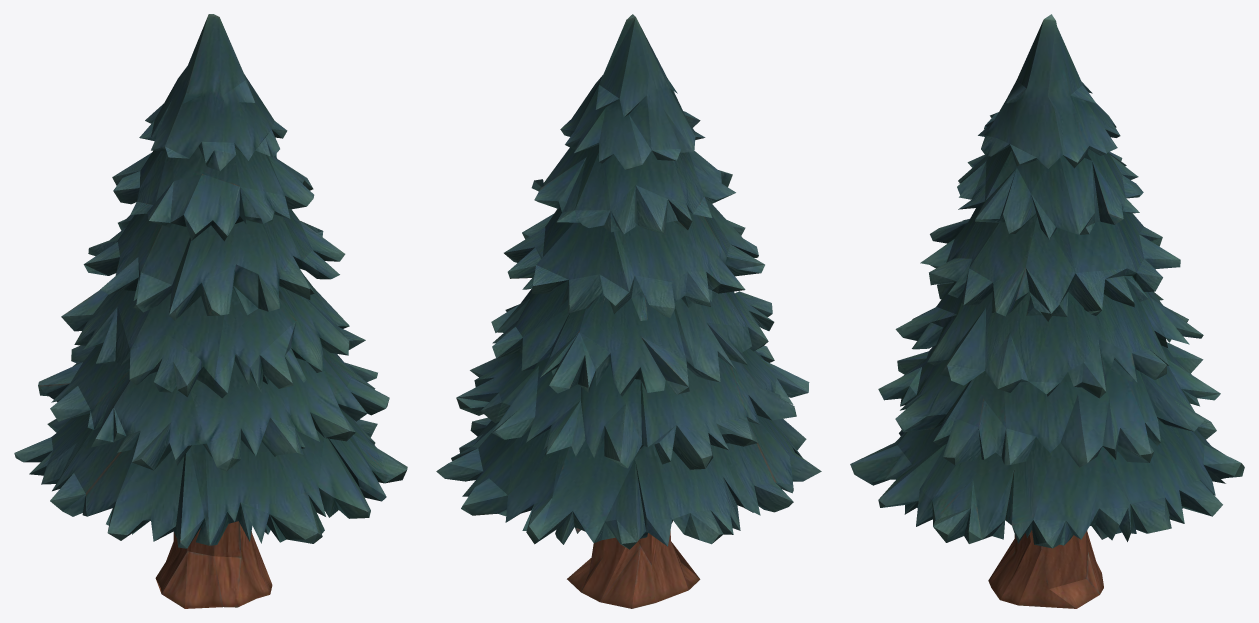
Rendered from tree_spruce.glb.
The picture shows the model from 3 angles, left to right: view 1: azimuth 30°, elevation 25°; view 2: azimuth 150°, elevation 25°; view 3: azimuth 270°, elevation 25°; orthographic projection.
Parts seen in each view (by area): view 1: Mesh_0; view 2: Mesh_0; view 3: Mesh_0.
Part boxes in pixels (x1=…): Mesh_0: x1=14, y1=14, x2=407, y2=608; Mesh_0: x1=436, y1=14, x2=821, y2=608; Mesh_0: x1=850, y1=14, x2=1244, y2=608.
Bounding box in the file's own units: 1.13 × 1.9 × 1.19.
1 material, 1 textured.
